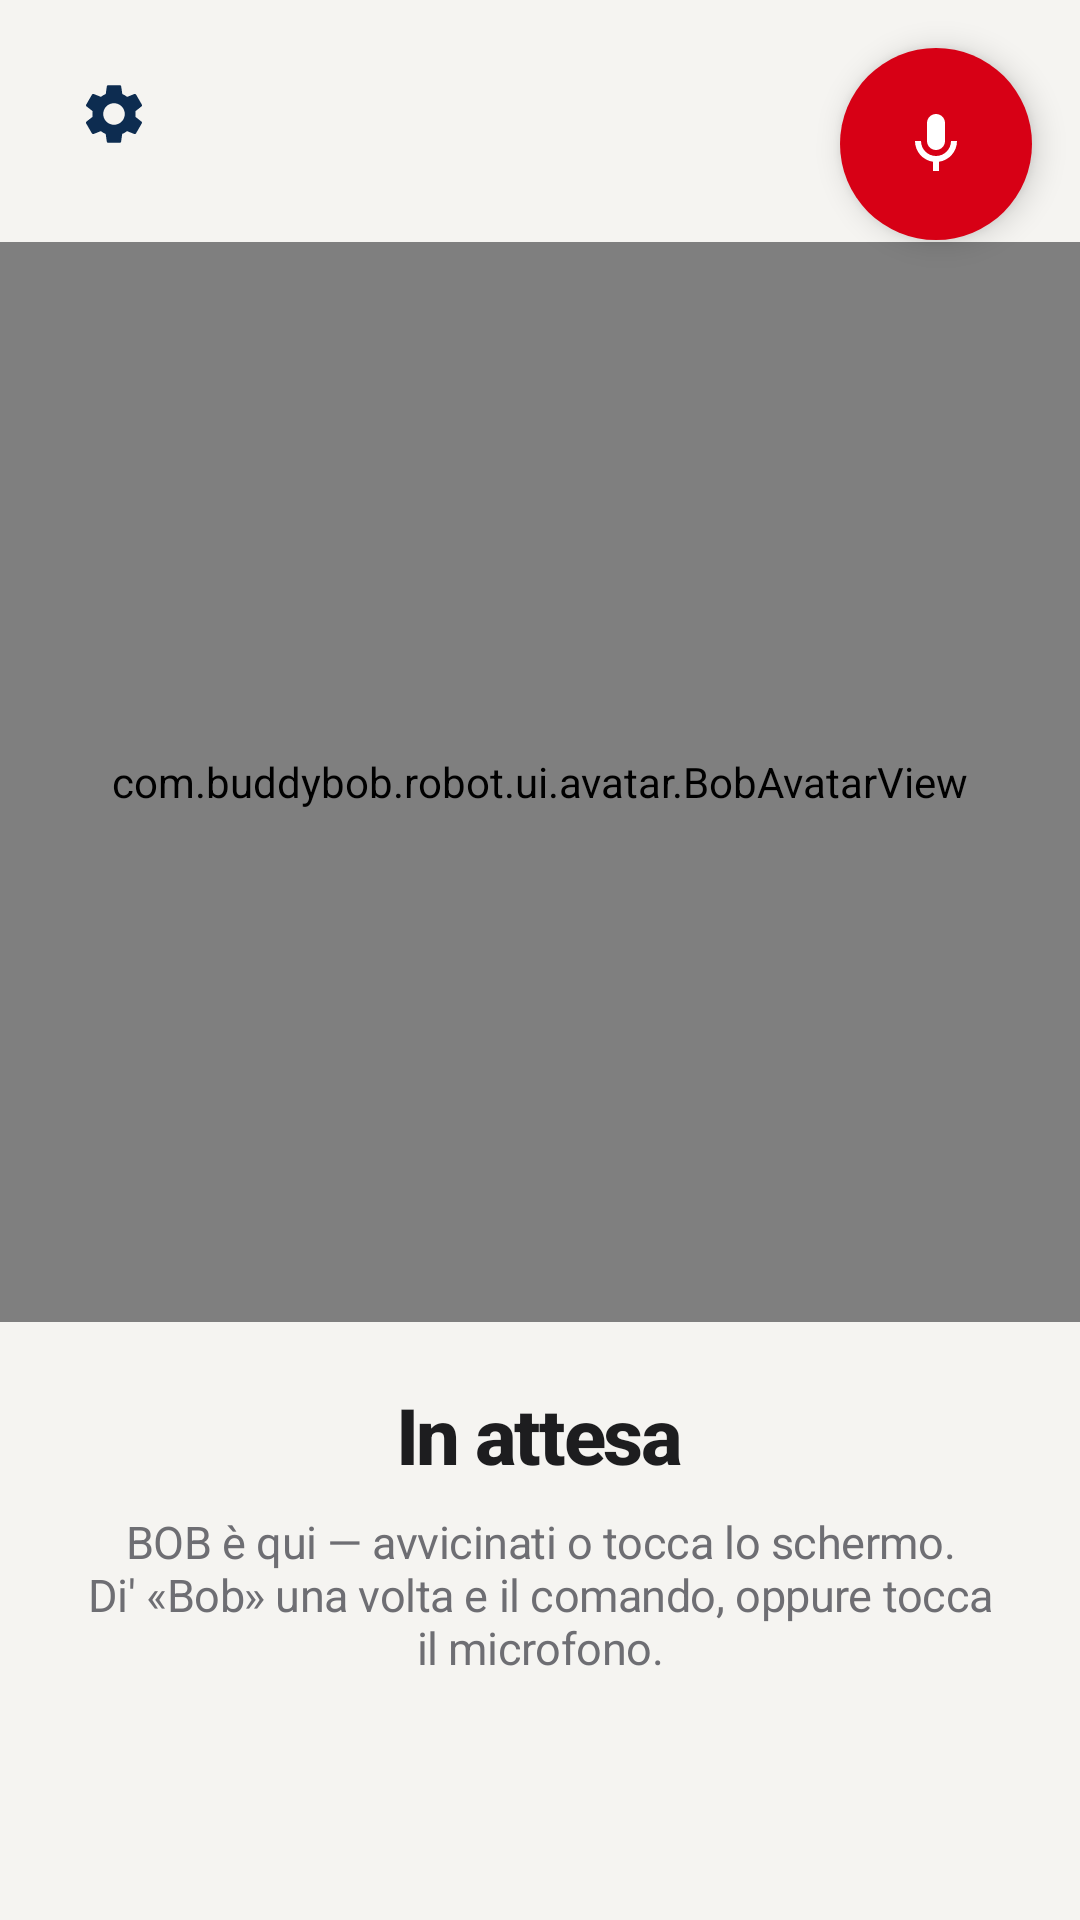

Locate icon controls on the screen. Image size 1080x1920, boxes as (x1,y1,x2,y2).
Apri impostazioni: (86,85,142,143)
Parla con BOB: (840,48,1032,240)
